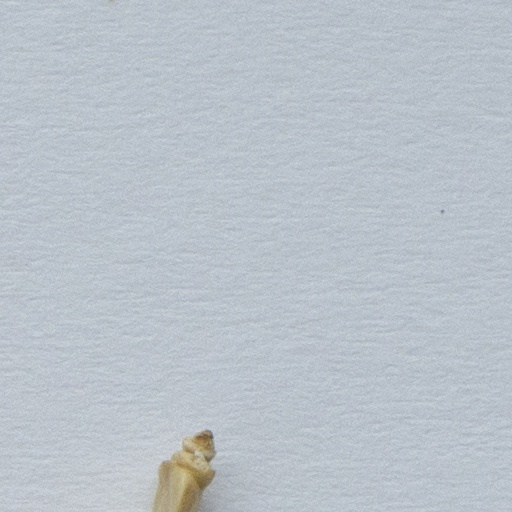Peel-poly: (151, 433, 215, 511)
